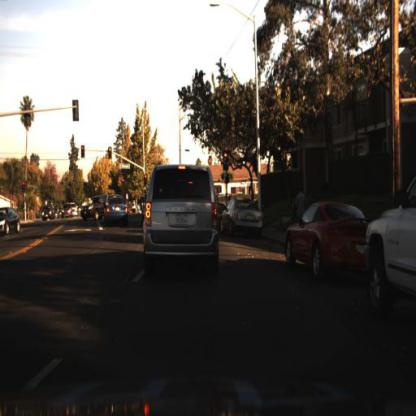car: (138, 161, 228, 283), (281, 195, 367, 293), (218, 192, 266, 245), (105, 194, 130, 226), (81, 194, 106, 225), (1, 202, 22, 238), (39, 202, 54, 226)
pedestrian: (288, 183, 310, 227)
trafficLight-Red: (219, 143, 233, 168), (21, 175, 29, 193), (78, 141, 86, 157), (107, 144, 115, 158)
